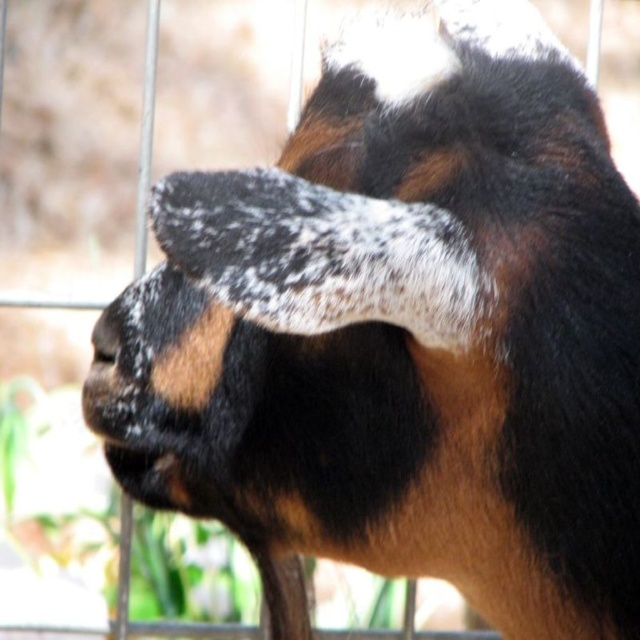Goat: (84, 0, 639, 639)
